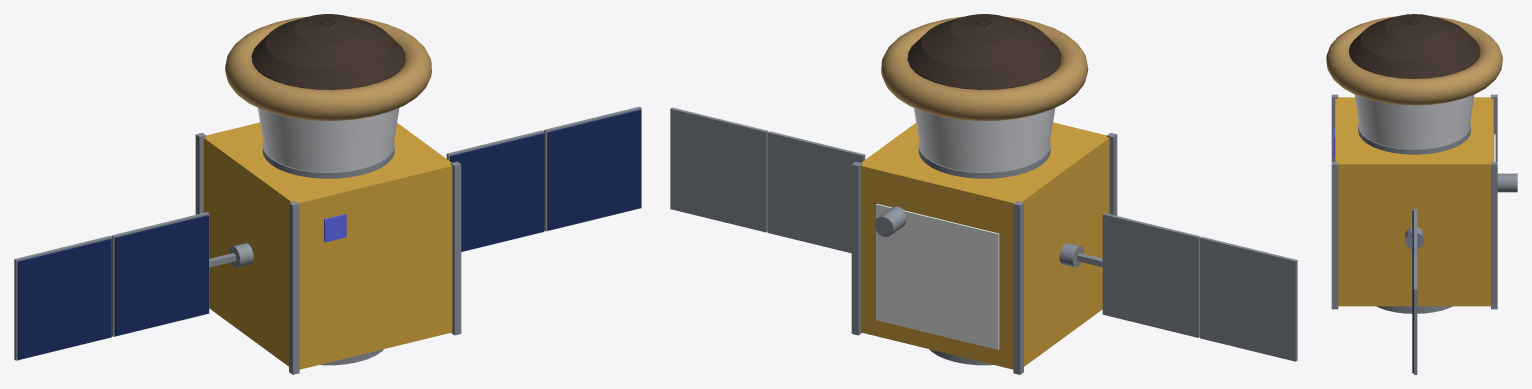
File: SP-PLT.glb
The picture shows the model from 3 angles, left to right: view 1: azimuth 30°, elevation 25°; view 2: azimuth 150°, elevation 25°; view 3: azimuth 270°, elevation 25°; orthographic projection. The views are drawn at different scales.
Visible parts, largest first — view 1: service_module_structure, solar_panel_-X1, solar_panel_-X2, solar_panel_+X2, nose, heat_shield_packed, solar_panel_+X1, capsule_backshell, corner_rail_-X-Y, corner_rail_+X-Y, separation_interface, panel_frame_+X2 (+4 smaller); view 2: service_module_structure, radiator_+Y_face, panel_frame_-X2, panel_frame_+X2, panel_frame_-X1, nose, panel_frame_+X1, heat_shield_packed, capsule_backshell, corner_rail_-X+Y, corner_rail_+X+Y, separation_interface (+2 smaller); view 3: service_module_structure, nose, heat_shield_packed, capsule_backshell, corner_rail_+X-Y, corner_rail_+X+Y, separation_interface, panel_frame_+X2, launch_separation_ring, star_tracker, corner_rail_-X+Y, corner_rail_-X-Y (+2 smaller).
Boxes of the visible parts, x1,y1,x2,y2 form: service_module_structure: (203,122,452,369); solar_panel_-X1: (114,215,208,335); solar_panel_-X2: (17,239,111,359); solar_panel_+X2: (547,109,641,230); nose: (251,14,405,89); heat_shield_packed: (225,16,431,120); solar_panel_+X1: (450,133,544,251); capsule_backshell: (258,108,399,172); corner_rail_-X-Y: (289,201,299,374); corner_rail_+X-Y: (450,161,461,335); separation_interface: (262,141,394,178); panel_frame_+X2: (544,106,641,231); service_module_structure: (860,122,1109,369); radiator_+Y_face: (876,204,999,349); panel_frame_-X2: (1200,237,1297,361); panel_frame_+X2: (670,107,767,232); panel_frame_-X1: (1102,213,1200,337); nose: (907,14,1061,89); panel_frame_+X1: (767,131,865,253); heat_shield_packed: (881,16,1088,120); capsule_backshell: (914,108,1055,172); corner_rail_-X+Y: (1013,201,1023,374); corner_rail_+X+Y: (851,161,862,335); separation_interface: (918,141,1050,178); service_module_structure: (1335,97,1493,306); nose: (1348,14,1480,78); heat_shield_packed: (1326,16,1502,105); capsule_backshell: (1355,94,1474,149); corner_rail_+X-Y: (1331,162,1338,309); corner_rail_+X+Y: (1491,162,1497,309); separation_interface: (1358,123,1470,154); panel_frame_+X2: (1414,249,1417,374); launch_separation_ring: (1376,306,1452,313); star_tracker: (1497,173,1517,192); corner_rail_-X+Y: (1491,94,1497,161); corner_rail_-X-Y: (1331,94,1338,161).
Bounding box in the file's own units: 2.3 × 1.12 × 0.716.
